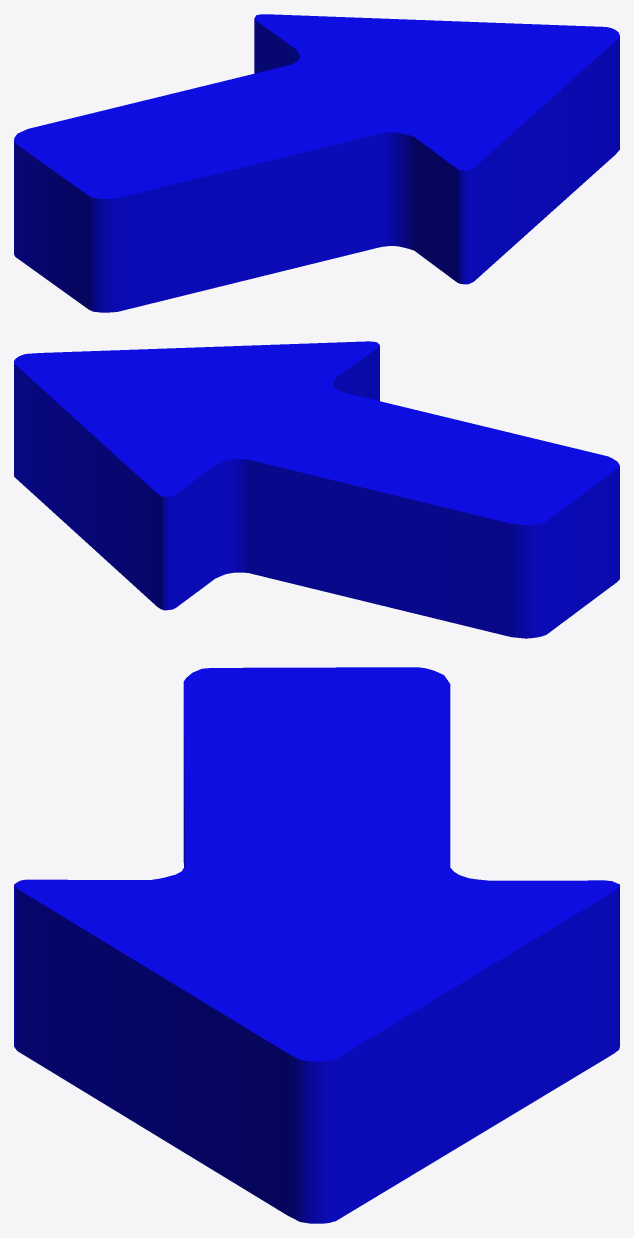
Rendered from arrow.fbx.
3 views of the same model, one above another, from view 1: azimuth 30°, elevation 25°; view 2: azimuth 150°, elevation 25°; view 3: azimuth 270°, elevation 25° (orthographic). The views are drawn at different scales.
Visible parts, largest first — view 1: BezierCurve; view 2: BezierCurve; view 3: BezierCurve.
Part boxes in pixels (x1,y1,x2,y2): BezierCurve: [14, 14, 619, 312]; BezierCurve: [14, 341, 619, 638]; BezierCurve: [14, 667, 619, 1223].
Size of the model in its own units: 281 by 54 by 183.
